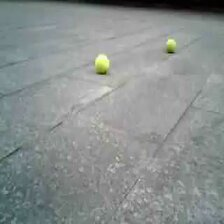tennis: (93, 54, 109, 71), (165, 39, 176, 52)
